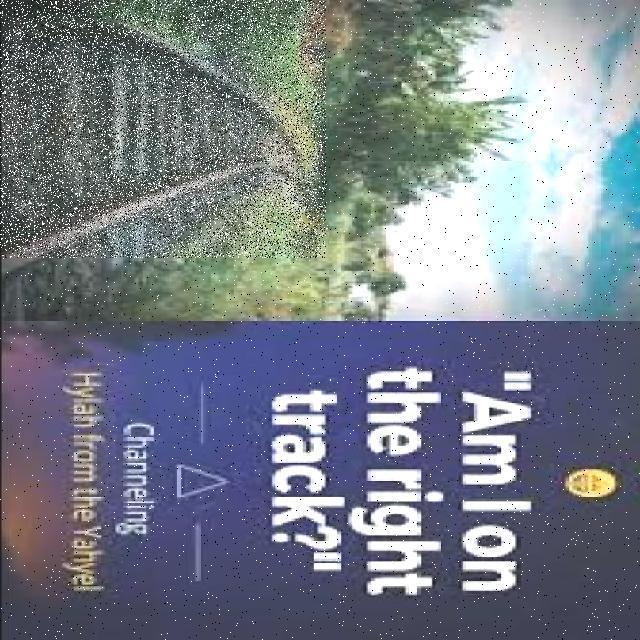rail: (0, 0, 326, 258)
